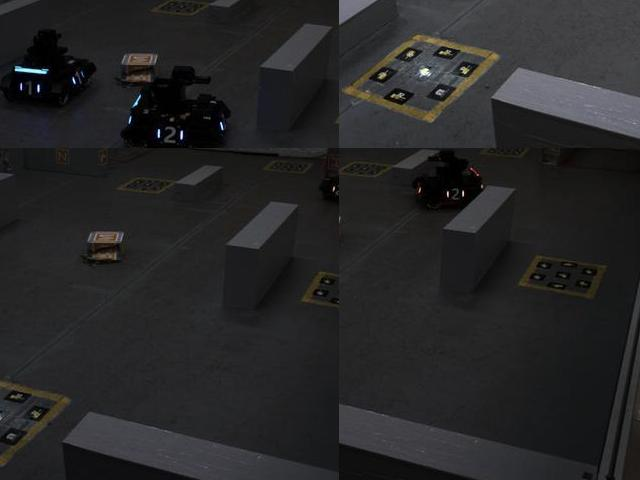armor: (152, 121, 188, 147), (15, 75, 43, 98), (67, 65, 88, 92), (443, 183, 467, 204), (329, 181, 338, 202)
